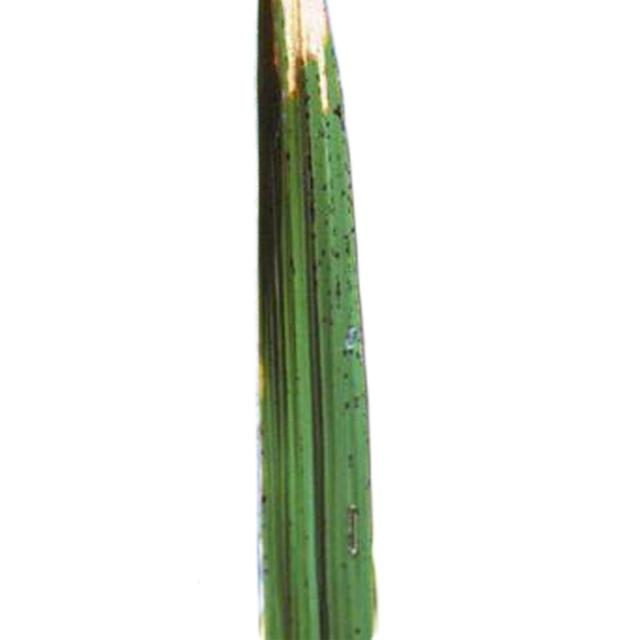Leaf scald: (214, 1, 468, 640)
